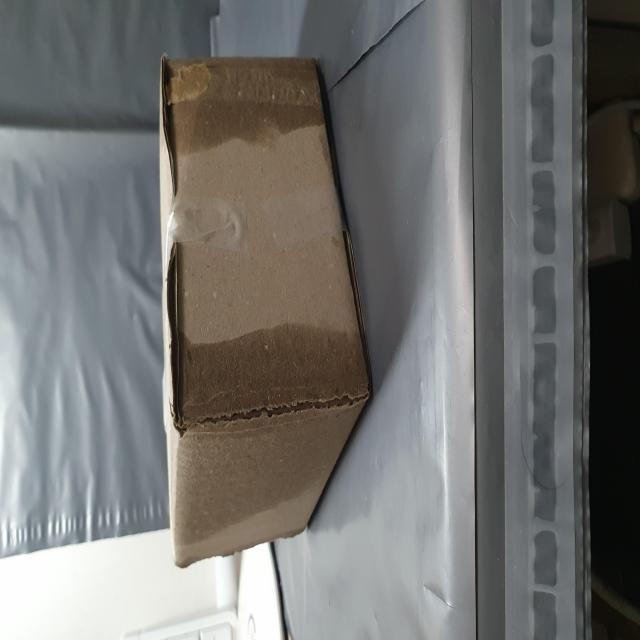wet: (46, 318, 178, 640), (259, 293, 329, 564)
